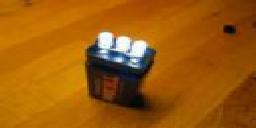LED: (93, 23, 150, 59)
